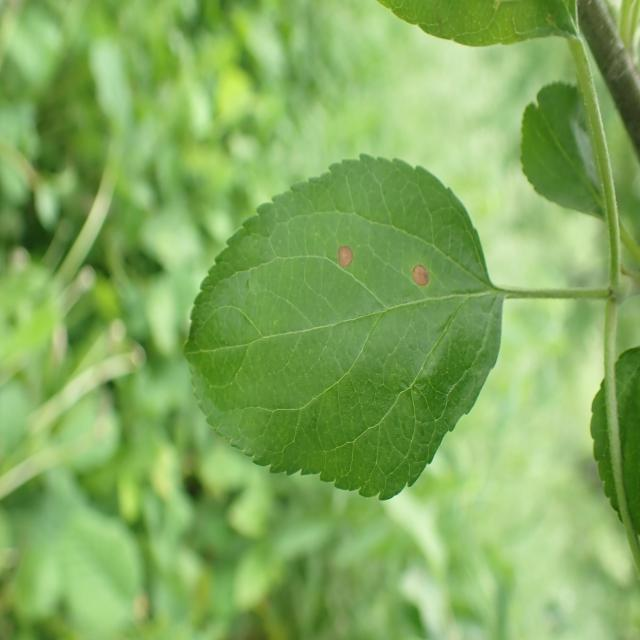Black Rot: (321, 233, 368, 281), (400, 242, 433, 304)
